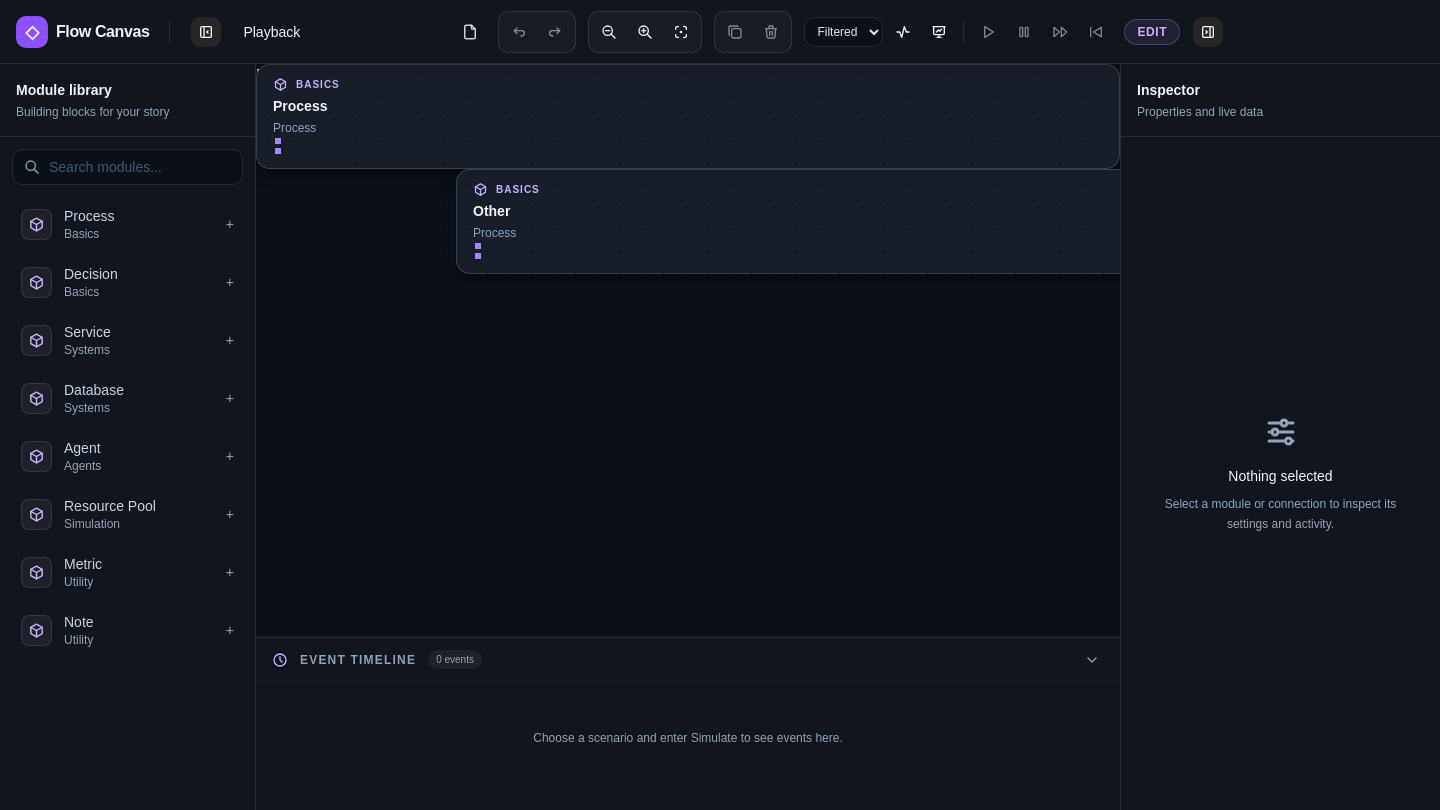
Test case: editor playback bridge › filters the timeline by node
The width and height of the screenshot is (1440, 810).
Click the button named "Simulate" at {"x": 903, "y": 32}, box 887,16 -> 919,48
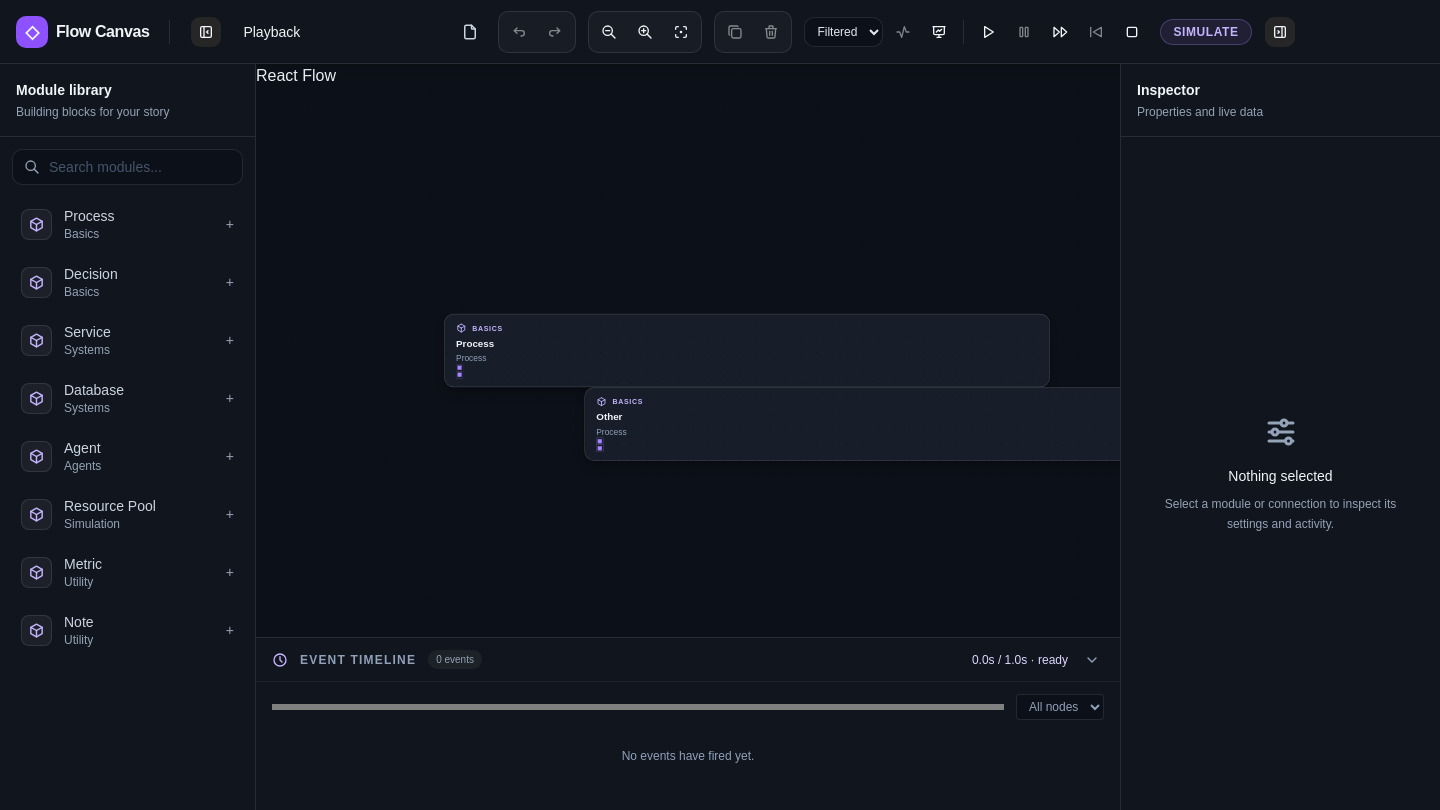
Click the button named "Step" at {"x": 1060, "y": 32}, box 1044,16 -> 1076,48
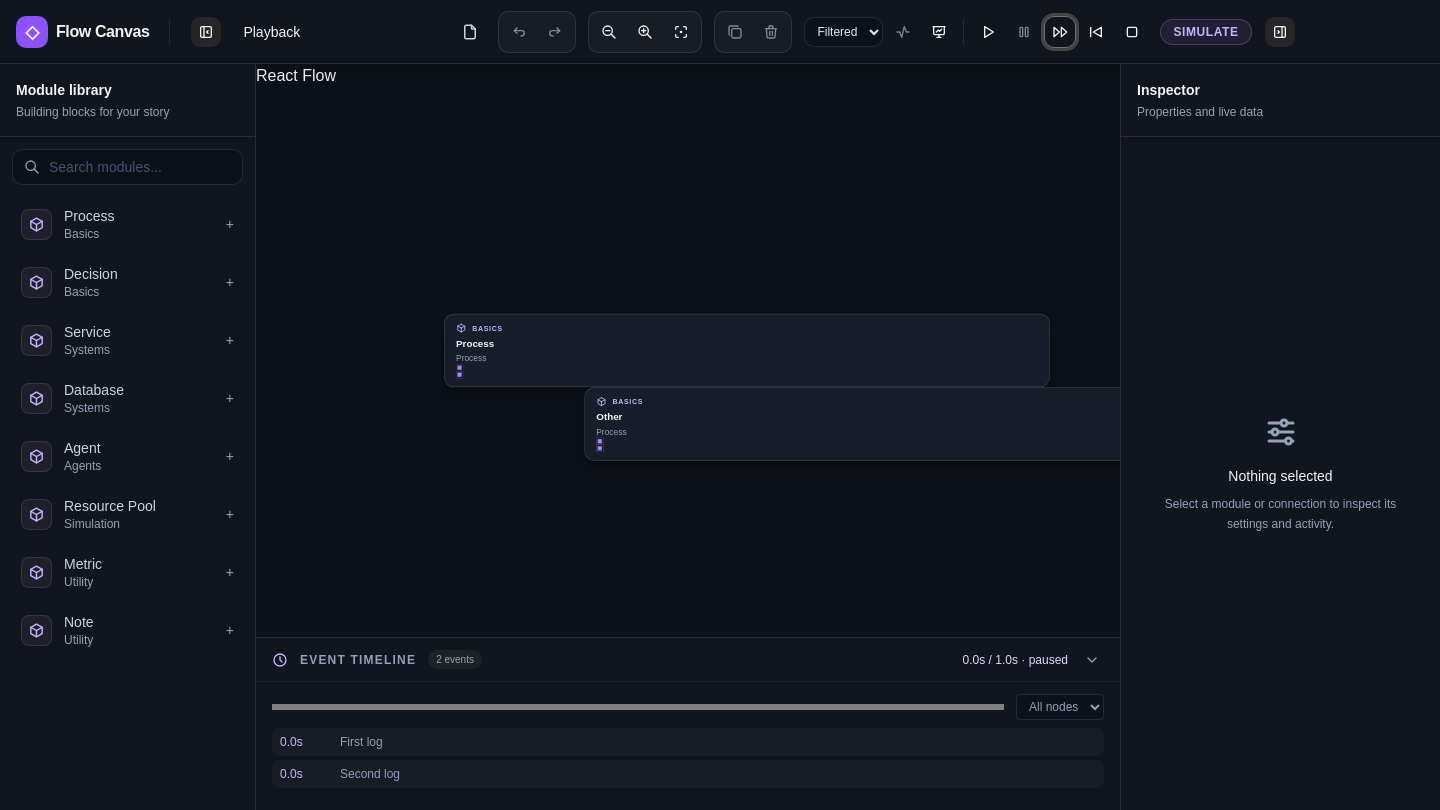
Result: the text "First log" is shown at 340,734 -> 383,750
Result: the text "Second log" is shown at 340,766 -> 400,782
Select "Process" in the dropdown named "Filter timeline by node" at {"x": 1060, "y": 707}, box 1016,694 -> 1104,720
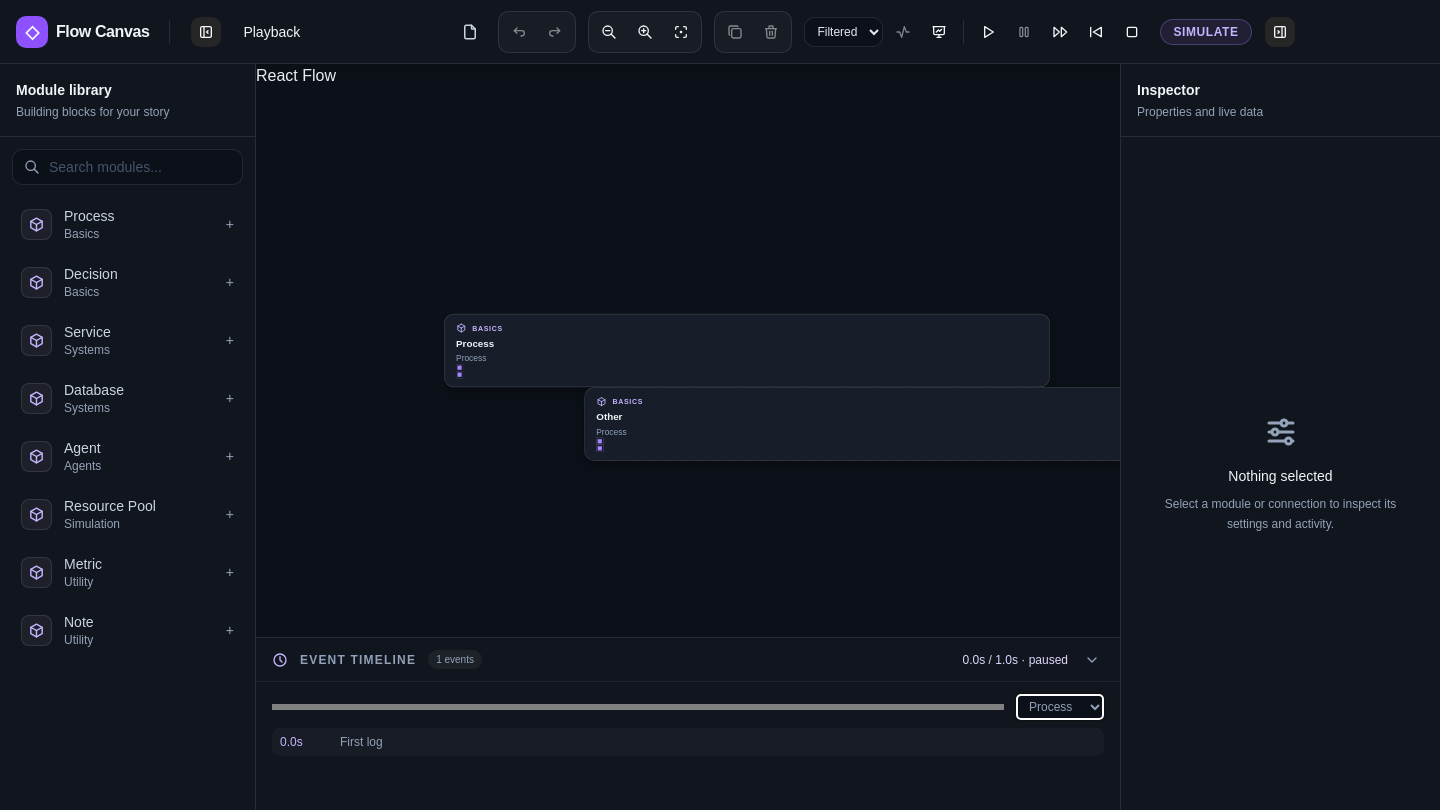
Result: the text "First log" is shown at 340,734 -> 383,750
Result: the text "Second log" is gone
